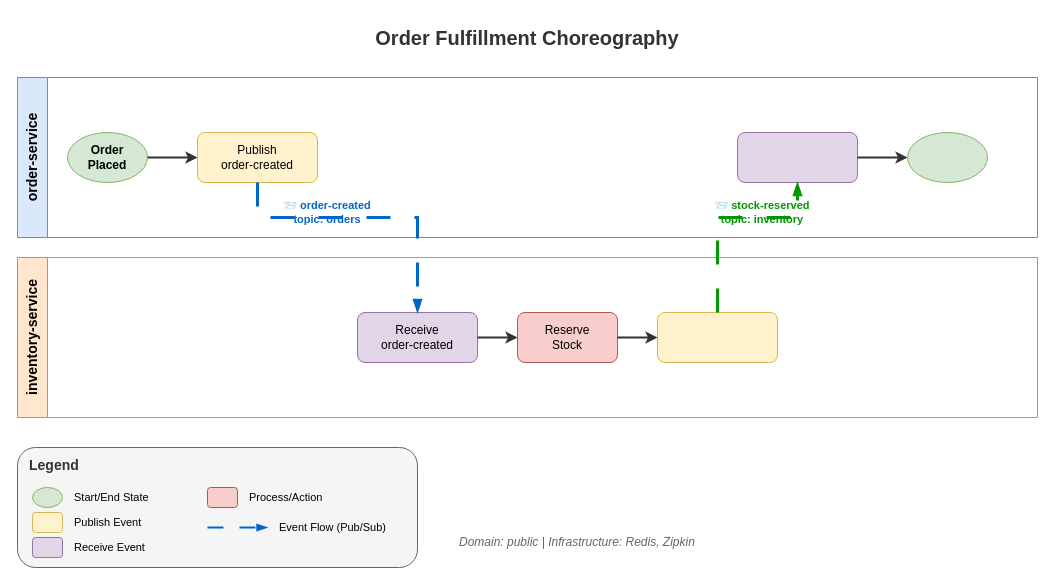
This 1055x585 diagram has some shape labels left out. Each missing label, with the centre of its shape:
Order Confirmed: pixel 947 157
Publish stock-reserved: pixel 717 337
Receive stock-reserved: pixel 797 157
